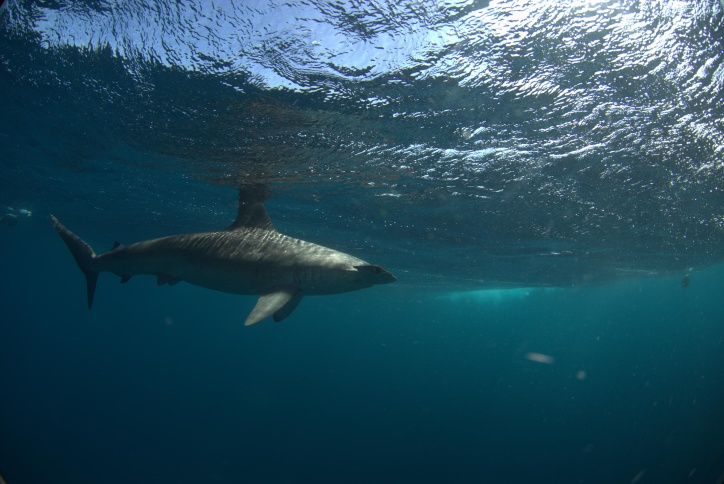Hammer: (27, 165, 433, 376)
